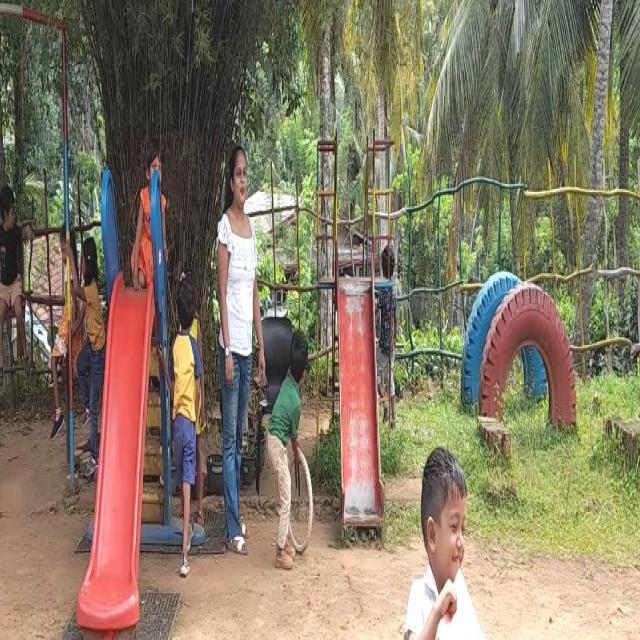adult: (215, 128, 264, 549)
child: (388, 437, 492, 640), (270, 322, 318, 565), (166, 278, 205, 557), (0, 137, 31, 374)
